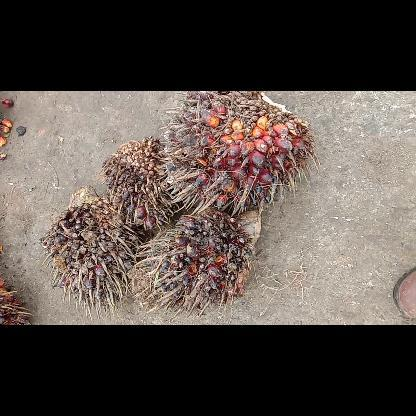TBS abnormal: (137, 211, 261, 309), (41, 188, 139, 306), (102, 136, 180, 228)
TBS masak: (164, 90, 310, 209)
